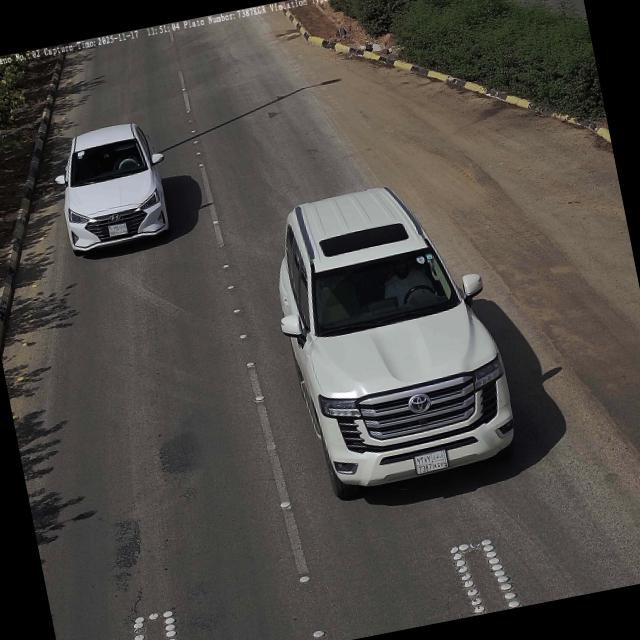person_without_seatbelt: (379, 250, 442, 322)
